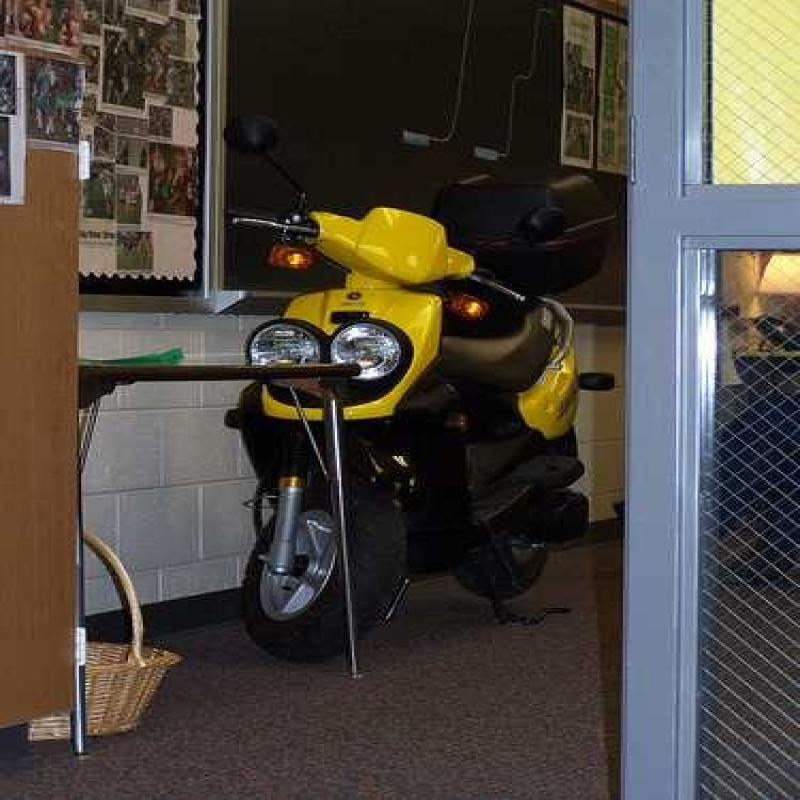bike: (206, 150, 586, 646)
